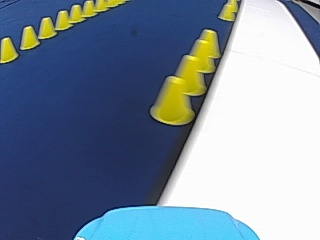cone: (149, 74, 194, 124), (171, 53, 206, 95), (189, 29, 220, 69), (19, 25, 39, 49), (0, 36, 18, 62), (38, 16, 55, 38), (193, 56, 215, 73), (218, 0, 235, 20), (54, 9, 69, 30), (68, 4, 82, 22), (82, 0, 94, 16)
